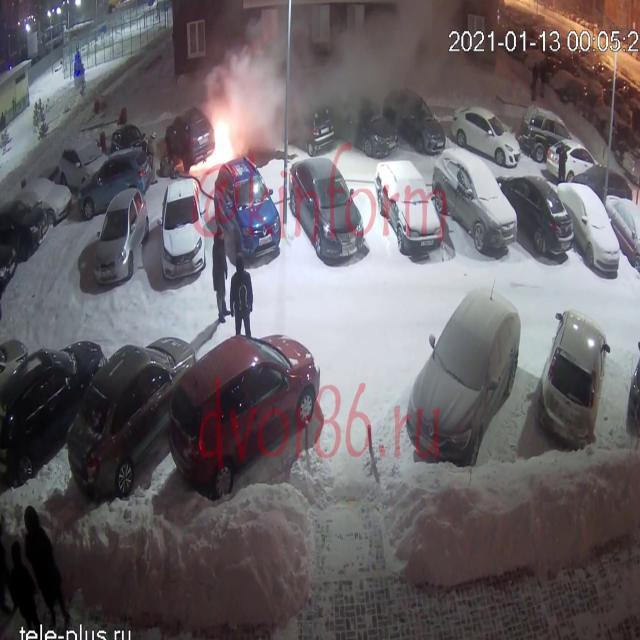Fire: (186, 105, 248, 173)
Smoke: (205, 1, 610, 143), (205, 2, 485, 144)
